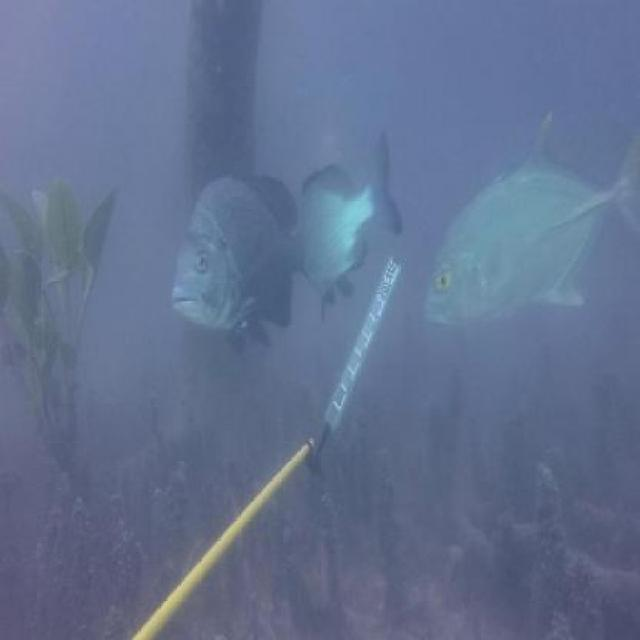Caranx: (423, 103, 640, 339)
acanthopagrus_palmaris: (168, 165, 300, 357), (294, 126, 403, 320)
